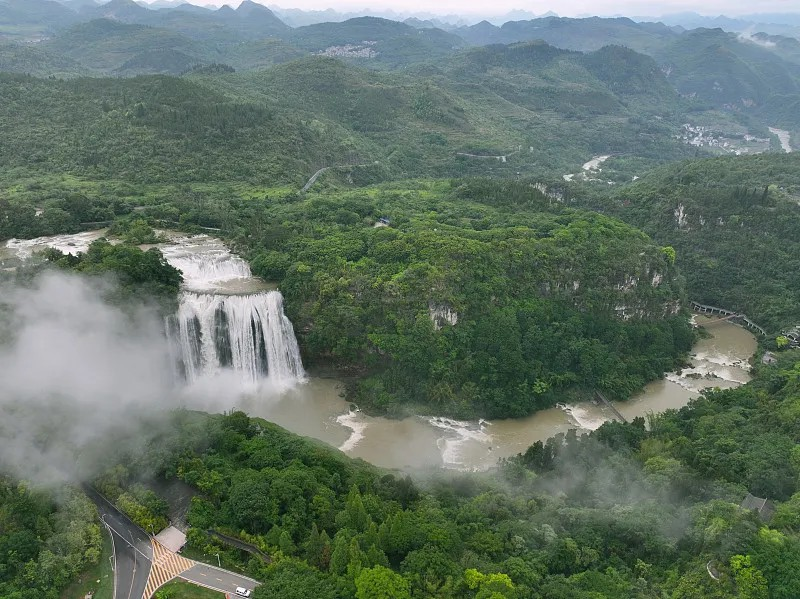Huangguoshu: (163, 256, 308, 386)
